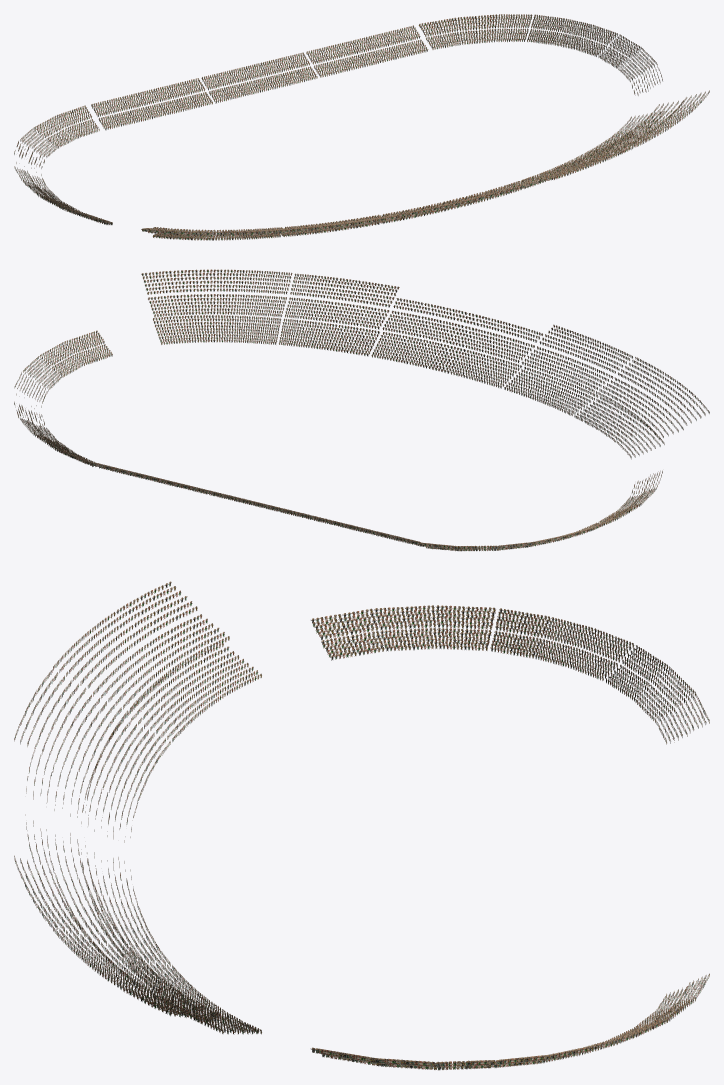
The model's file is Track_Weekly_People.fbx.
3 views of the same model, one above another, from view 1: azimuth 30°, elevation 25°; view 2: azimuth 150°, elevation 25°; view 3: azimuth 270°, elevation 25° (orthographic). The views are drawn at different scales.
Visible parts, largest first — view 1: polySurface140, polySurface101; view 2: no part large enough to name; view 3: no part large enough to name.
Boxes of the visible parts, left/top/right/bottom form: polySurface140: left=397, top=179, right=542, bottom=216; polySurface101: left=141, top=228, right=292, bottom=234.
Size of the model in its own units: 25624 by 1991 by 16502.
